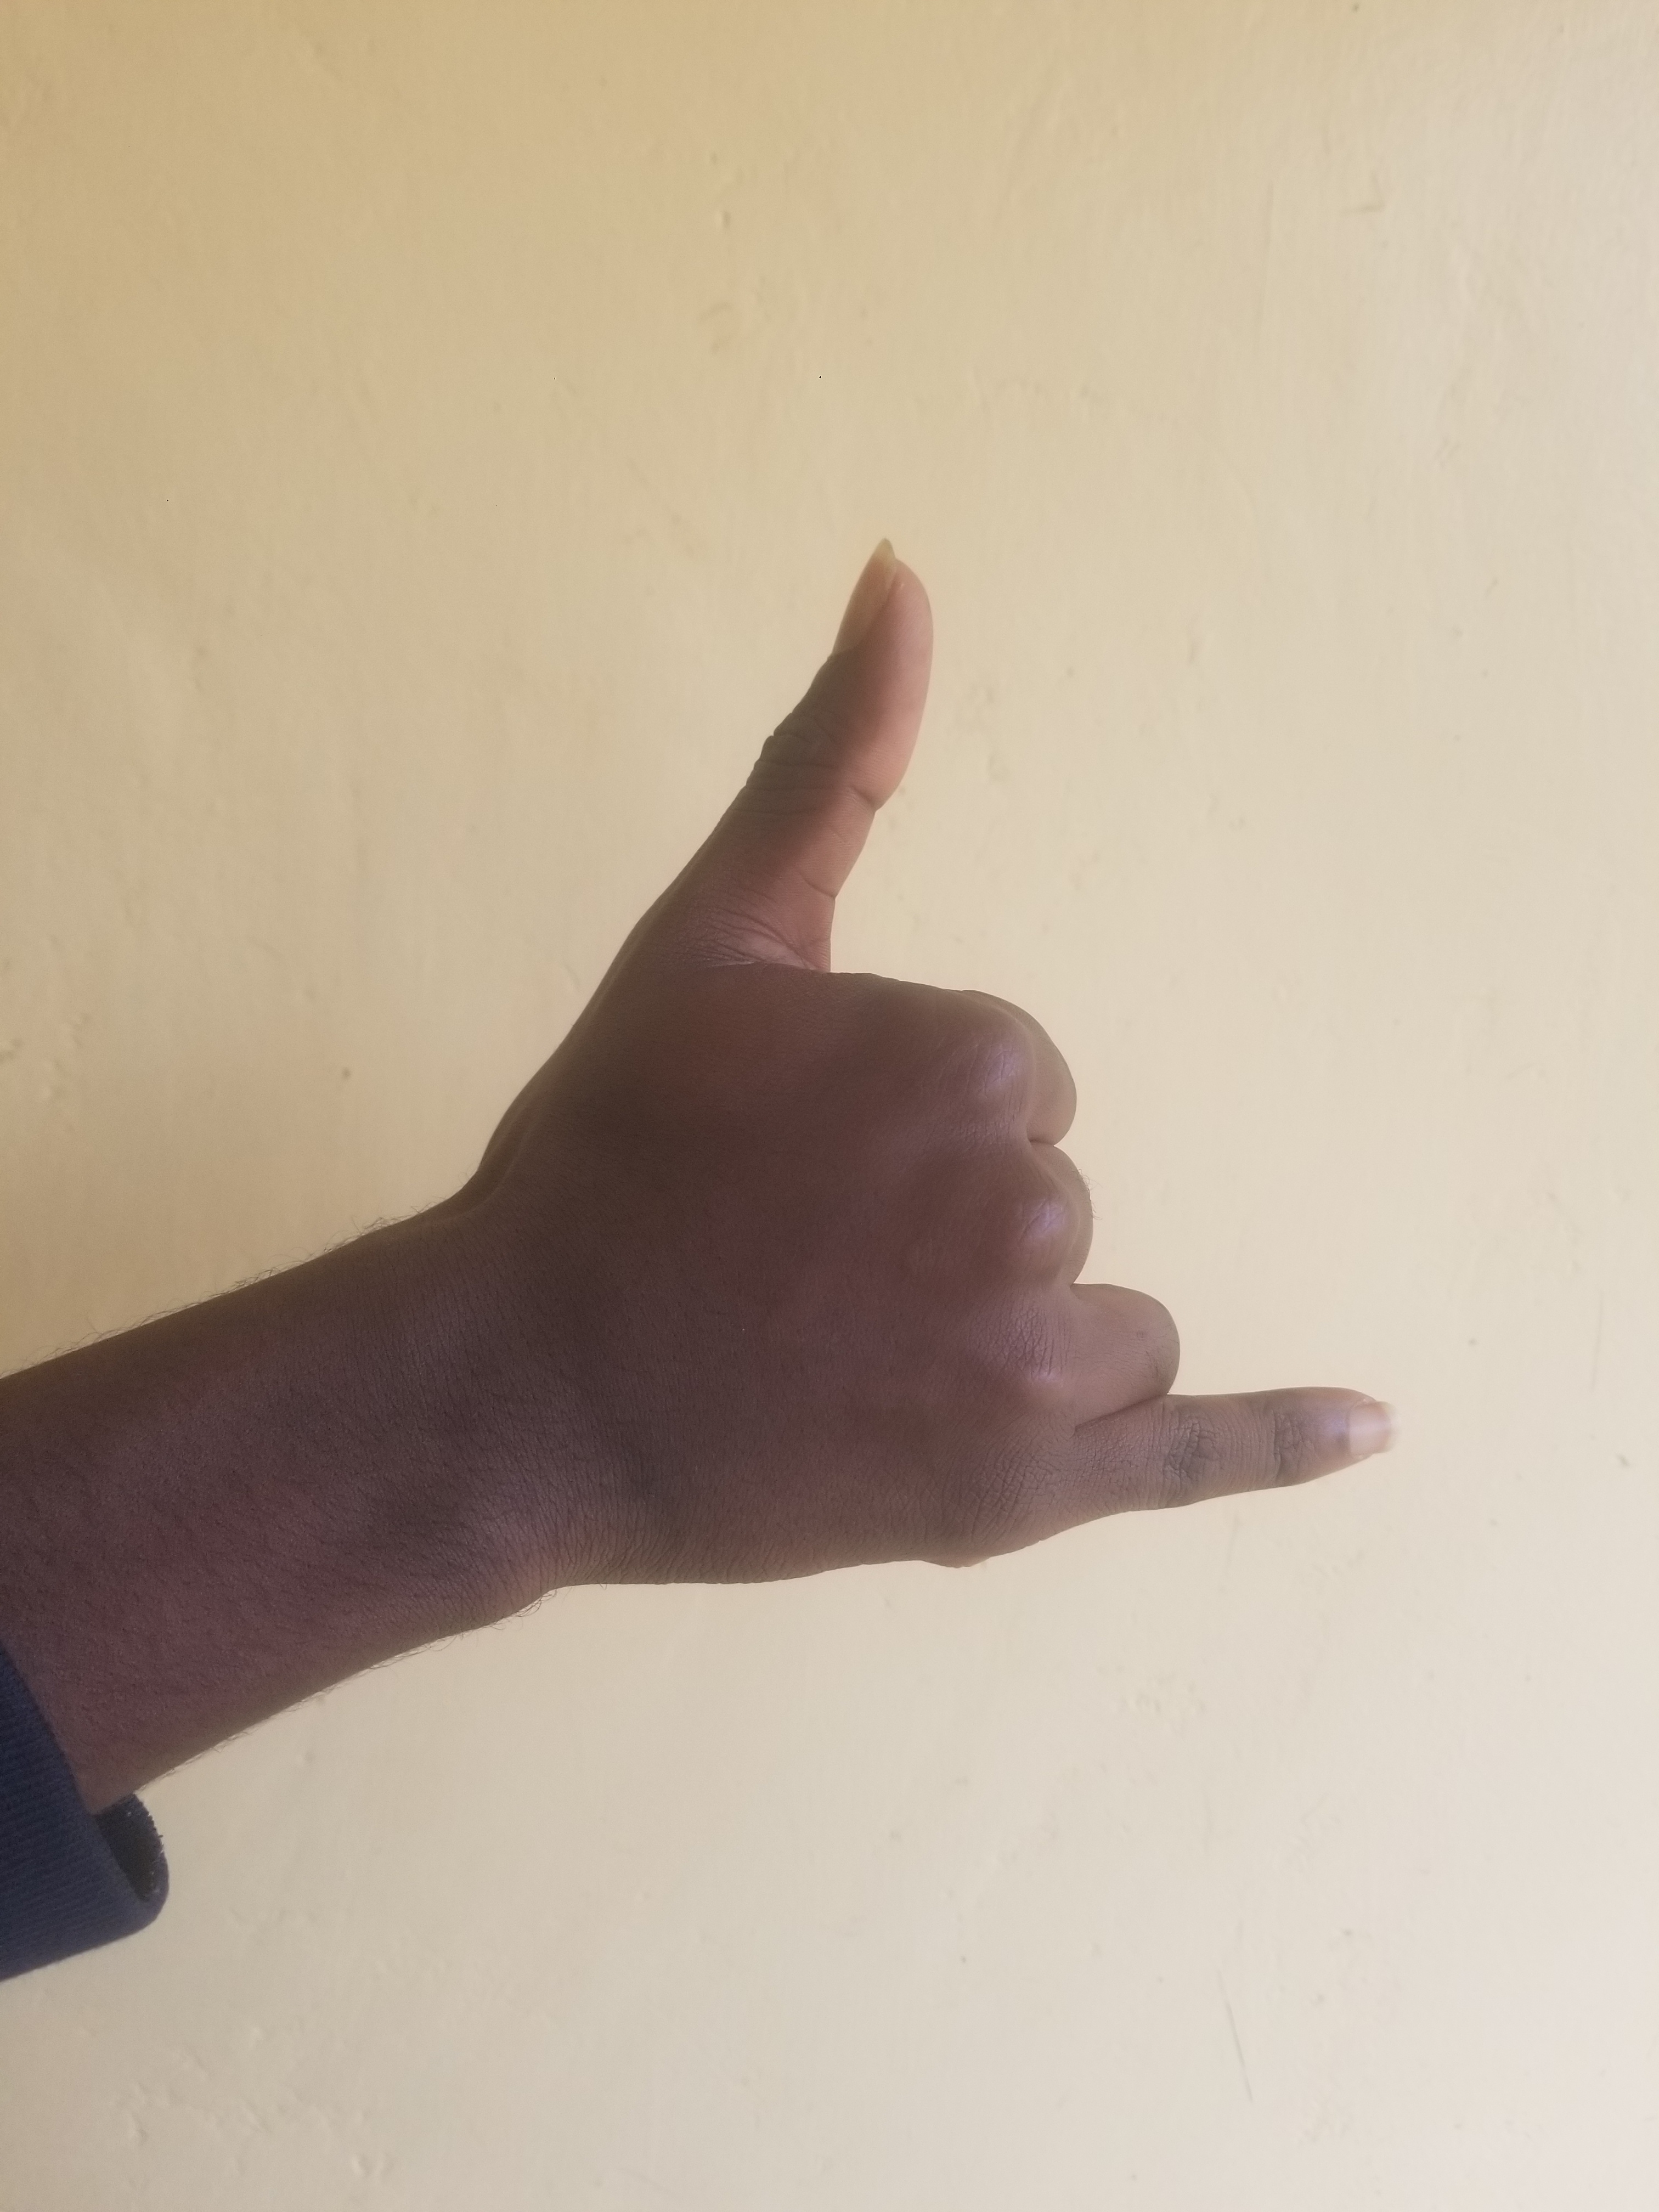call: (291, 266, 1535, 1743)
